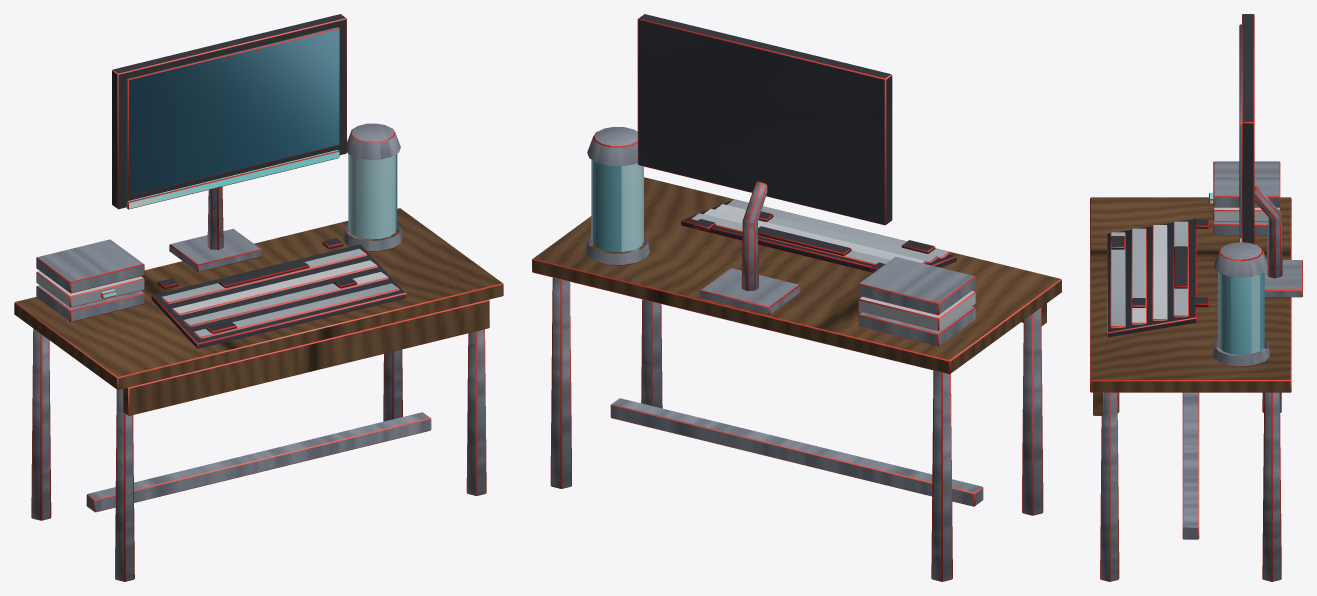
File: Env_Prop_ResearchTerminal.fbx
3 renders of one model, left to right at view 1: azimuth 30°, elevation 25°; view 2: azimuth 150°, elevation 25°; view 3: azimuth 270°, elevation 25°, orthographic. The views are drawn at different scales.
Visible parts, largest first — view 1: Env_Prop_ResearchTerminal; view 2: Env_Prop_ResearchTerminal; view 3: Env_Prop_ResearchTerminal.
Boxes of the visible parts, left/top/right/bottom form: Env_Prop_ResearchTerminal: left=14, top=14, right=503, bottom=581; Env_Prop_ResearchTerminal: left=532, top=14, right=1061, bottom=581; Env_Prop_ResearchTerminal: left=1090, top=14, right=1302, bottom=581.
Bounding box in the file's own units: 155 × 76 × 168.
